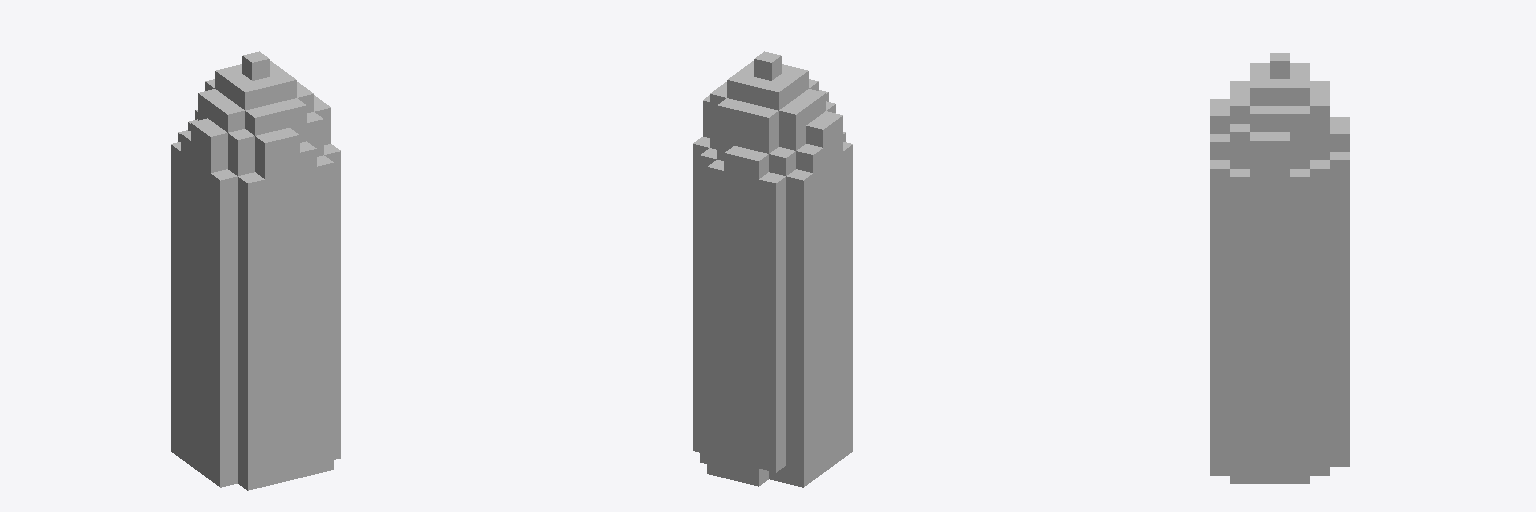
The model's file is BULLET 1.obj.
The picture shows the model from 3 angles: view 1: azimuth 30°, elevation 25°; view 2: azimuth 150°, elevation 25°; view 3: azimuth 270°, elevation 25°; orthographic projection.
Parts seen in each view (by area): view 1: object 1; view 2: object 1; view 3: object 1.
Part boxes in pixels (bbox=[...]): object 1: bbox=[171, 51, 340, 490]; object 1: bbox=[693, 51, 852, 487]; object 1: bbox=[1210, 53, 1349, 483].
Size of the model in its own units: 0.7 by 2.2 by 0.7.